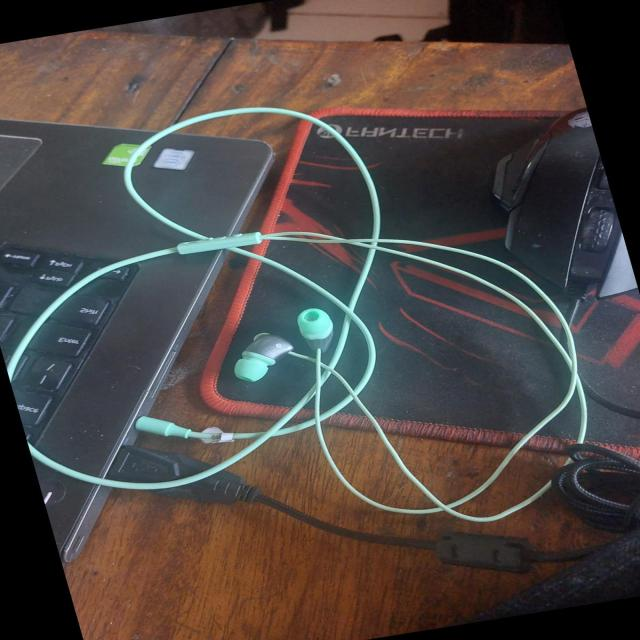earphone: (75, 110, 560, 538)
